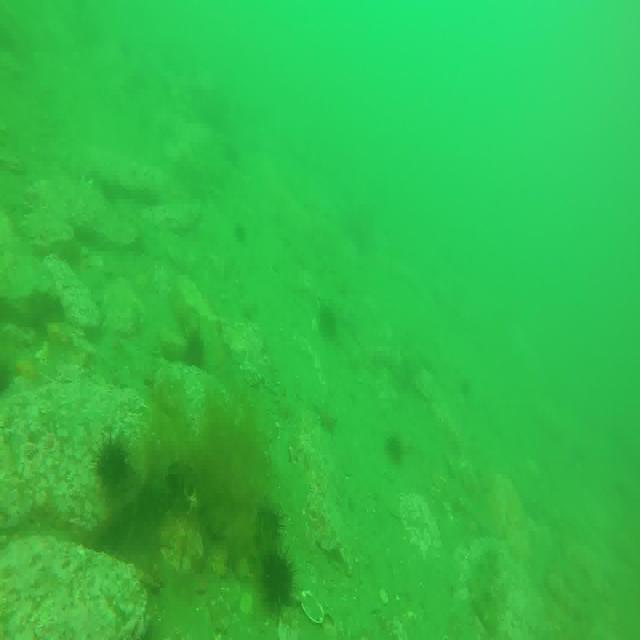echinus: (261, 551, 296, 616), (94, 438, 130, 487), (256, 501, 284, 543), (382, 431, 406, 467), (318, 304, 339, 345)
holothurian: (465, 534, 500, 640)
scallop: (300, 584, 325, 636)
